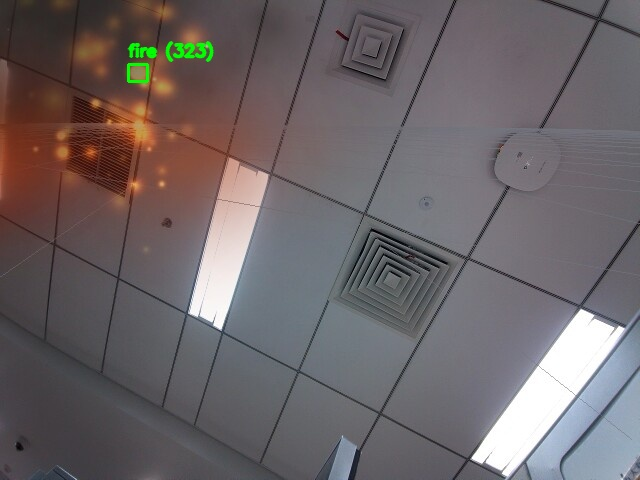fire: (128, 64, 147, 81)
